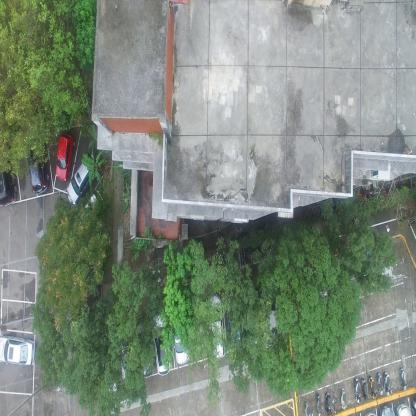car: (66, 154, 96, 205), (0, 137, 19, 206), (30, 136, 52, 193), (0, 332, 37, 365), (152, 314, 171, 376), (259, 287, 277, 352), (206, 295, 224, 359), (135, 317, 153, 375), (55, 132, 75, 182), (225, 294, 242, 352), (172, 306, 188, 364), (395, 403, 412, 415), (378, 404, 395, 415)
